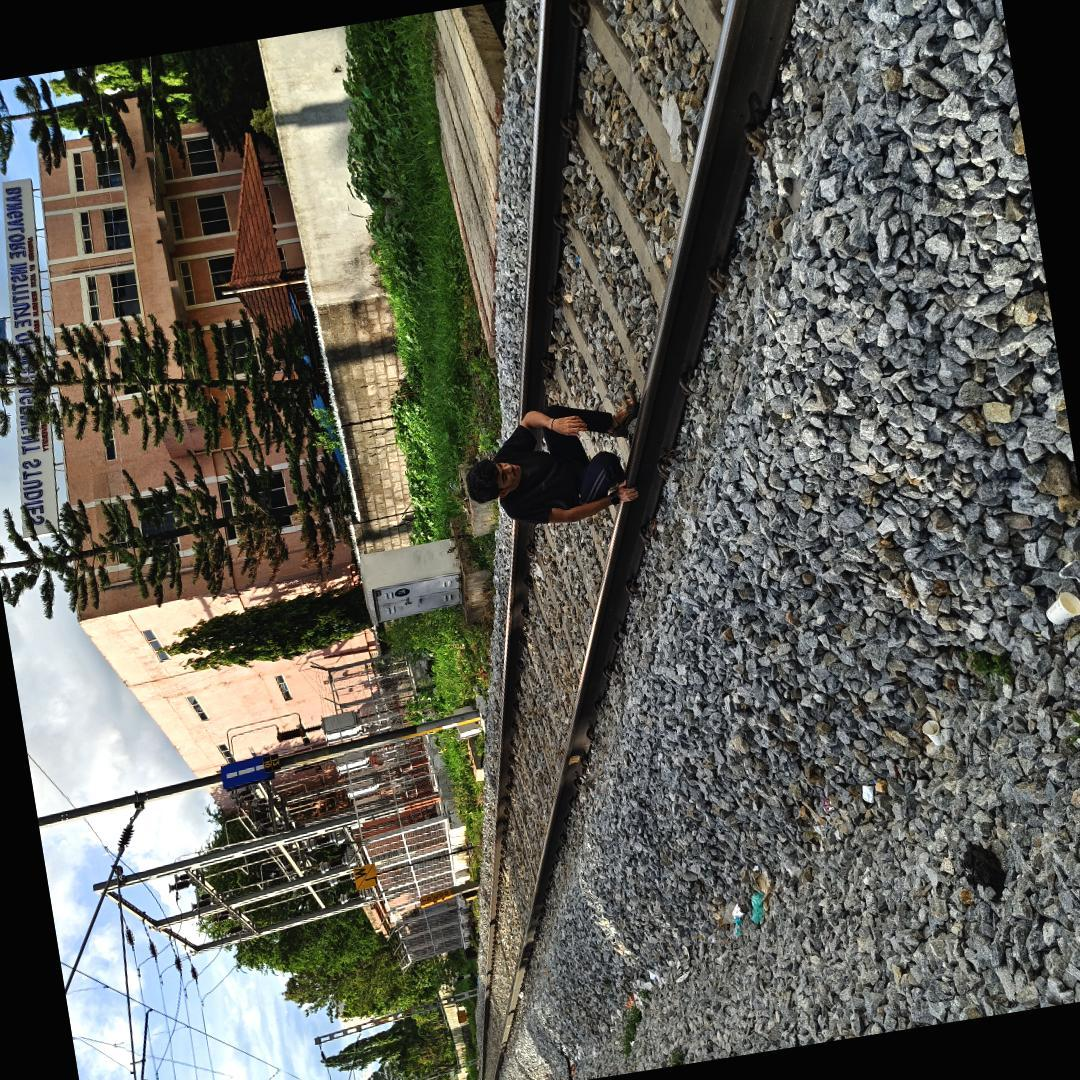sitting: (450, 389, 658, 547)
